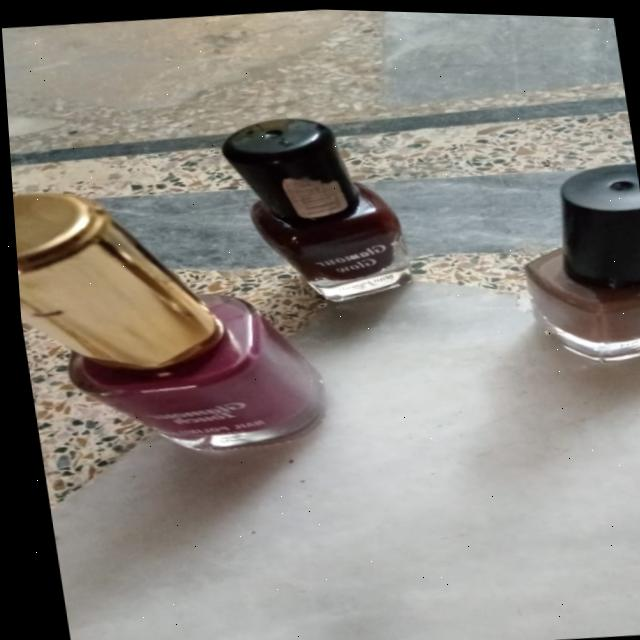nail polish: (9, 164, 342, 490), (180, 91, 444, 322), (484, 141, 640, 382)
